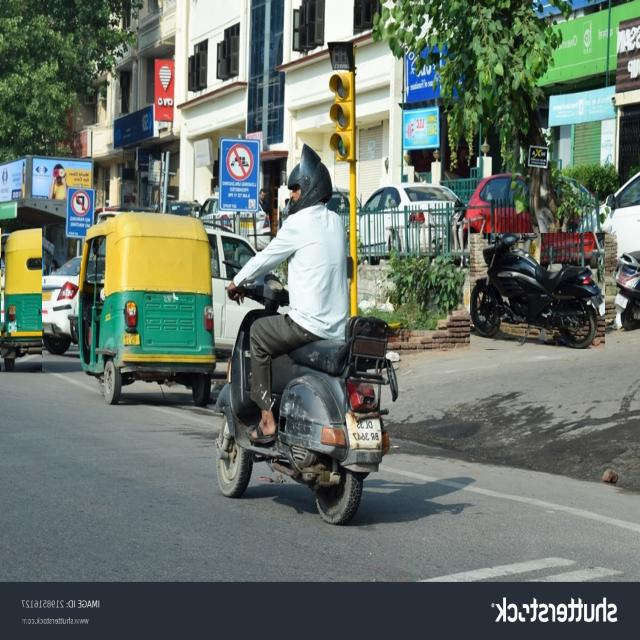autorickshaw: (79, 213, 215, 405), (1, 228, 41, 371)
motorcycle: (216, 145, 399, 525), (470, 234, 605, 349)
